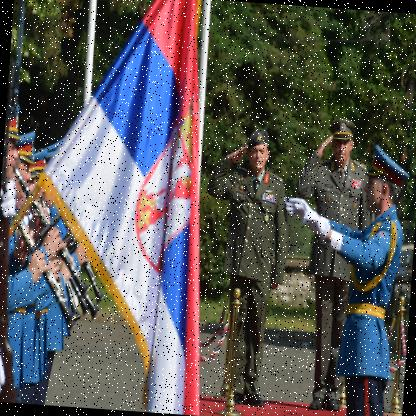rs: (24, 1, 231, 416)
